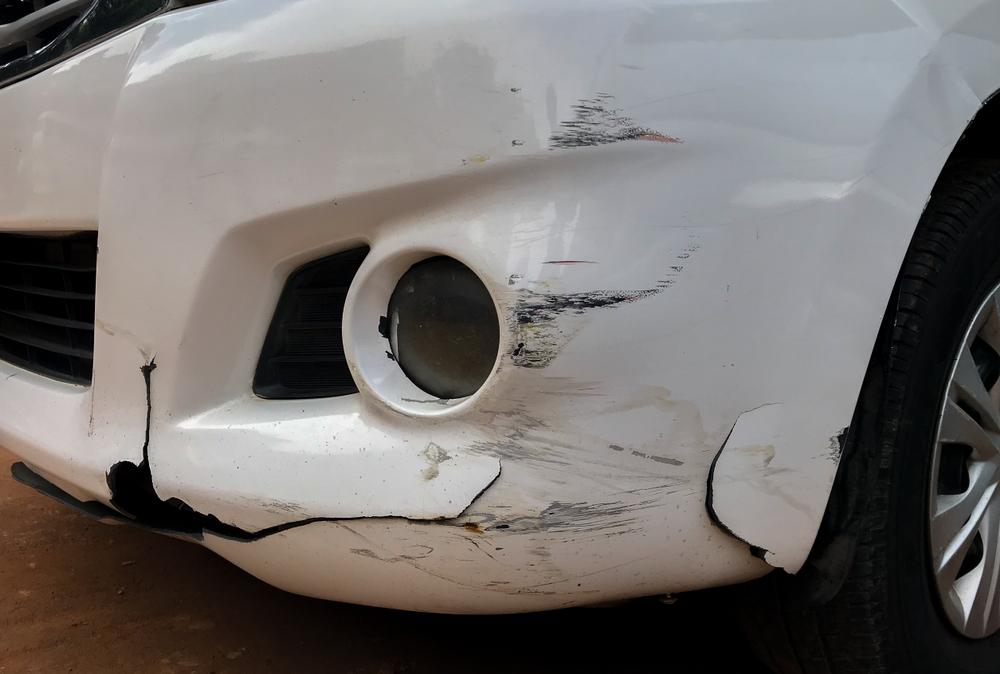crack: (106, 356, 501, 543), (705, 402, 789, 573)
scratch: (420, 241, 711, 598), (541, 91, 685, 151)
